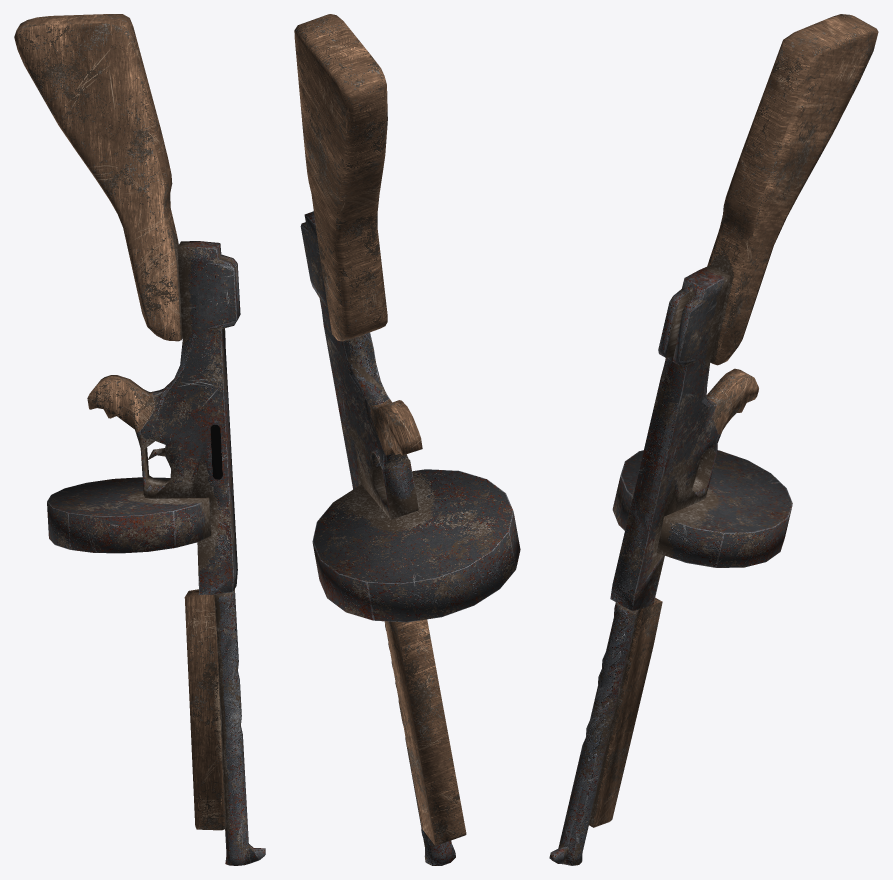
File: Anim_idle_ametralladora_objetos.0023.obj
The picture shows the model from 3 angles, left to right: view 1: azimuth 30°, elevation 25°; view 2: azimuth 150°, elevation 25°; view 3: azimuth 270°, elevation 25°; orthographic projection. The views are drawn at different scales.
Parts seen in each view (by area): view 1: Ametralladora1; view 2: Ametralladora1; view 3: Ametralladora1.
Boxes of the visible parts, <box> form: Ametralladora1: <box>14,14,265,865</box>; Ametralladora1: <box>294,14,520,865</box>; Ametralladora1: <box>549,14,878,865</box>.
Bounding box in the file's own units: 1.38 × 5.87 × 2.14.
